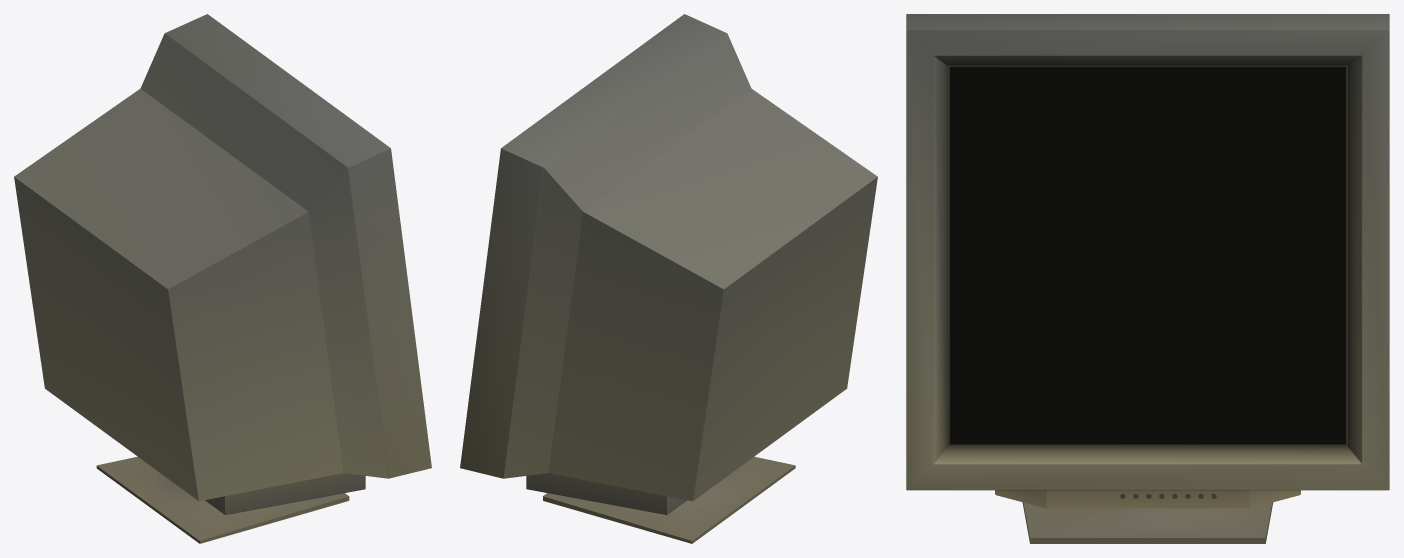
The model's file is monitor.fbx.
3 renders of one model, left to right at view 1: azimuth 30°, elevation 25°; view 2: azimuth 150°, elevation 25°; view 3: azimuth 270°, elevation 25°, orthographic. The views are drawn at different scales.
Visible parts, largest first — view 1: monitor; view 2: monitor; view 3: monitor.
Part boxes in pixels (x1,y1,x2,y2): monitor: (14,14,431,543); monitor: (460,14,877,543); monitor: (906,14,1389,543).
Size of the model in its own units: 108 by 162 by 138.
